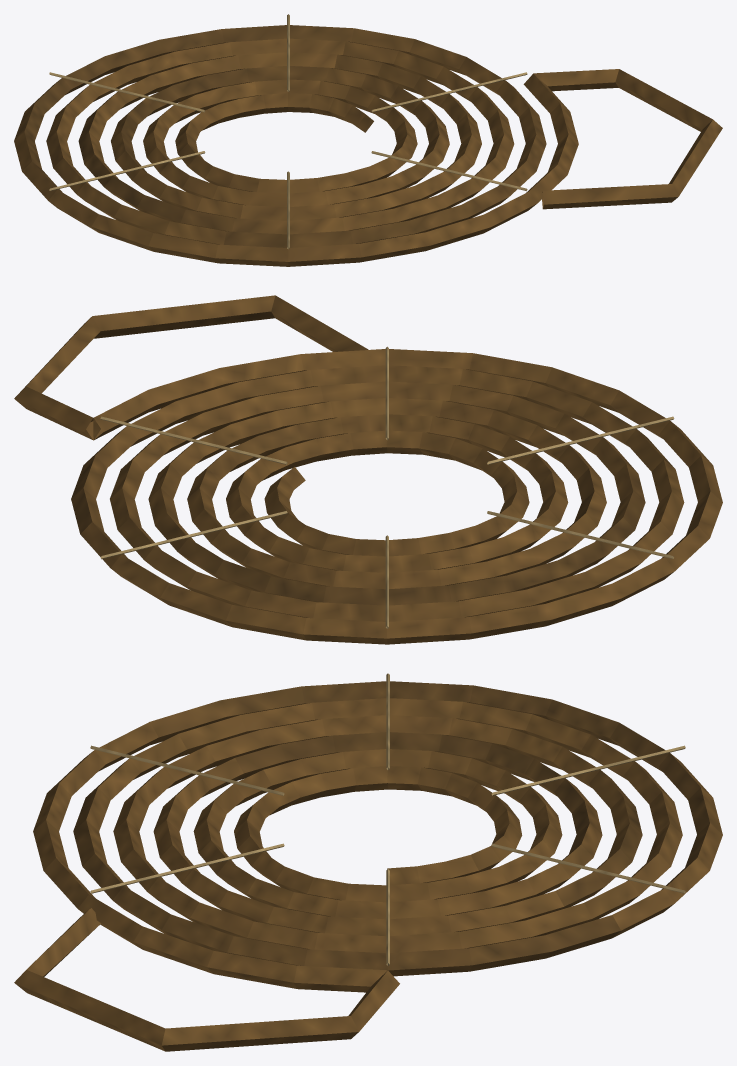
The model's file is rope_coil.glb.
3 views of the same model, one above another, from view 1: azimuth 30°, elevation 25°; view 2: azimuth 150°, elevation 25°; view 3: azimuth 270°, elevation 25° (orthographic). The views are drawn at different scales.
Visible parts, largest first — view 1: rope_coil; view 2: rope_coil; view 3: rope_coil.
Boxes of the visible parts, <box> form: rope_coil: <box>14,14,722,266</box>; rope_coil: <box>14,295,722,644</box>; rope_coil: <box>14,673,722,1051</box>.
Size of the model in its own units: 0.9056 by 0.037 by 0.7652.
2 materials, 2 textured.
